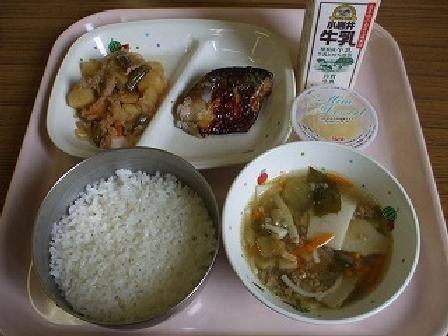Cup desserts: (279, 85, 387, 160)
Fish: (169, 60, 281, 141)
Milk: (298, 0, 379, 103)
Rice: (43, 152, 222, 324)
Soups: (222, 146, 426, 319)
cooked food meat with vegetables: (64, 49, 166, 147)
